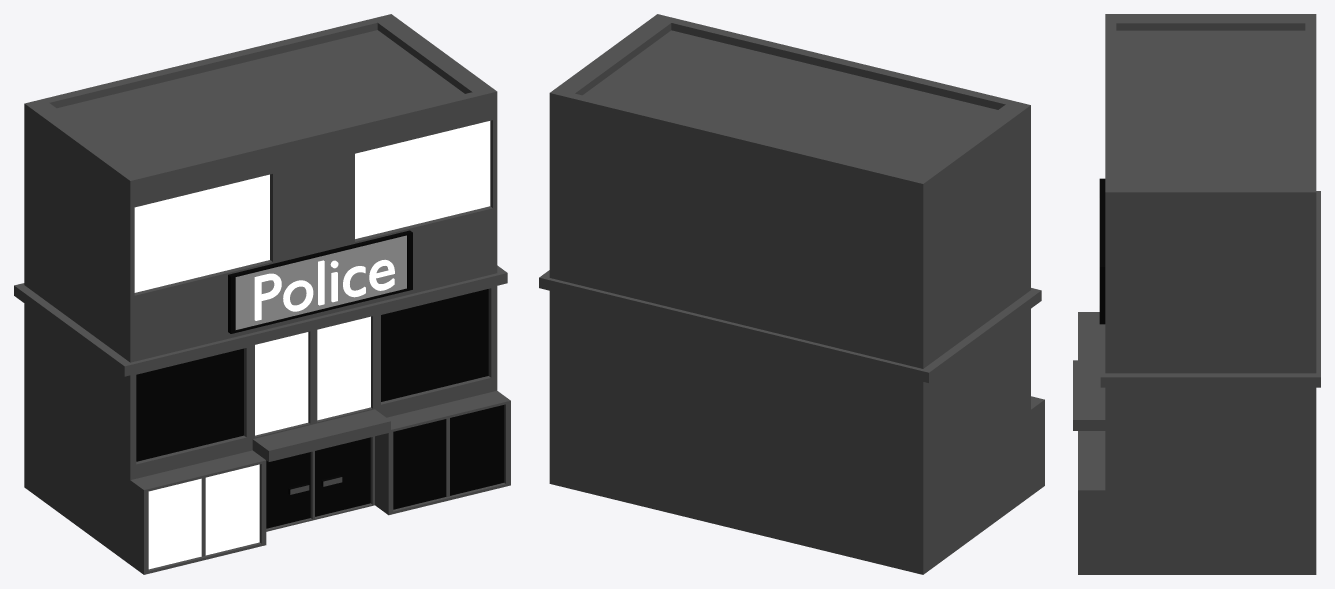
The model's file is police.fbx.
The picture shows the model from 3 angles, left to right: view 1: azimuth 30°, elevation 25°; view 2: azimuth 150°, elevation 25°; view 3: azimuth 270°, elevation 25°; orthographic projection. The views are drawn at different scales.
Visible parts, largest first — view 1: Cube.211, Cube.210; view 2: Cube.211, Cube.210; view 3: Cube.211, Cube.210.
Part boxes in pixels (box(x1,y1,x2,y2)): Cube.211: box(14, 14, 507, 376); Cube.210: box(24, 286, 510, 574); Cube.211: box(539, 14, 1041, 382); Cube.210: box(549, 291, 1044, 574); Cube.211: box(1099, 14, 1320, 387); Cube.210: box(1073, 312, 1316, 574).
Bounding box in the file's own units: 4176 × 4000 × 2349.
